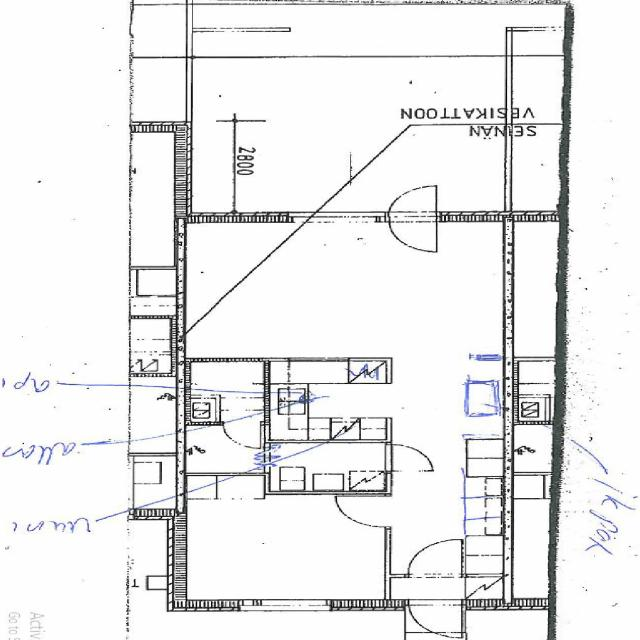door: (409, 599, 461, 638), (409, 541, 462, 577), (389, 212, 436, 250), (389, 184, 436, 222), (335, 496, 391, 527), (386, 444, 434, 470), (223, 422, 260, 448)
